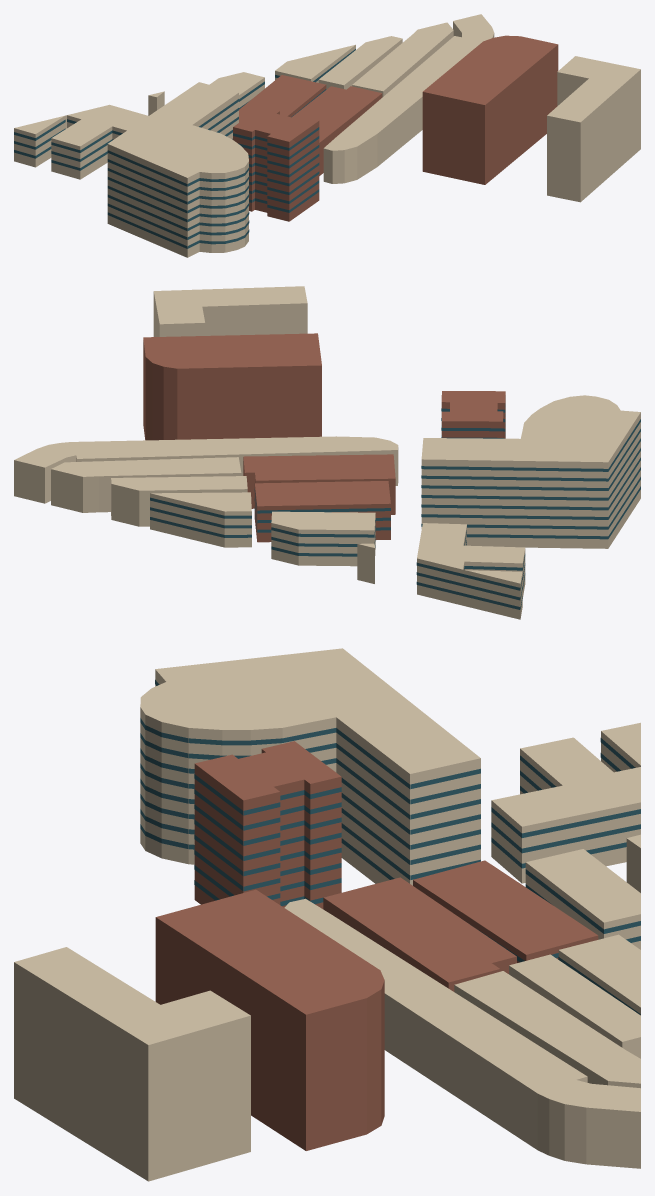
File: city_-2_6.glb
The picture shows the model from 3 angles, top to bottom: view 1: azimuth 30°, elevation 25°; view 2: azimuth 150°, elevation 25°; view 3: azimuth 270°, elevation 25°; orthographic projection. The views are drawn at different scales.
Parts seen in each view (by area): view 1: city_-2_6; view 2: city_-2_6; view 3: city_-2_6.
Part boxes in pixels (x1,y1,x2,y2): city_-2_6: (14,14,640,257); city_-2_6: (14,286,640,619); city_-2_6: (14,648,640,1181).
Size of the model in its own units: 228 by 36 by 150.
